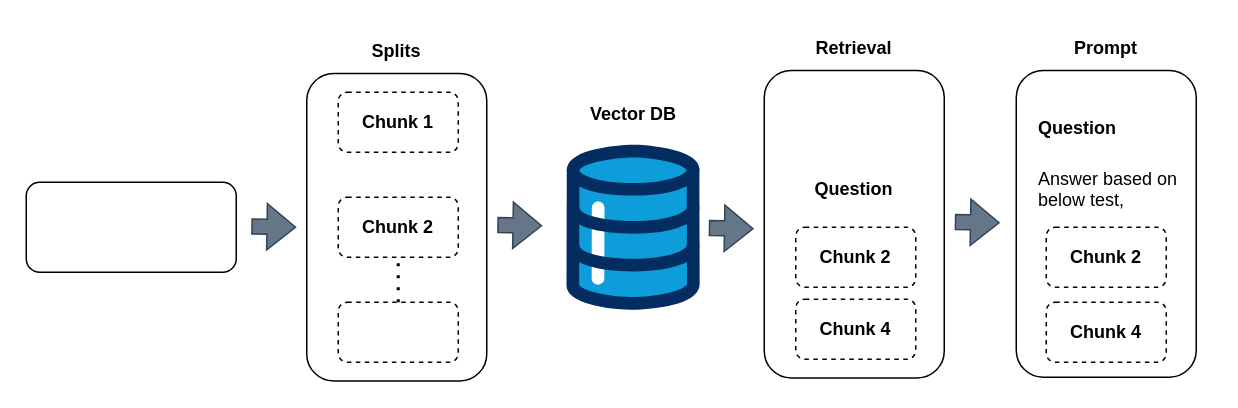
Image size: 1238x408. Some labels were removed from this diagram. Each missing label, with the box of its shape:
Chunk n: (337, 301, 458, 362)
DOCUMENTS: (25, 181, 236, 272)
